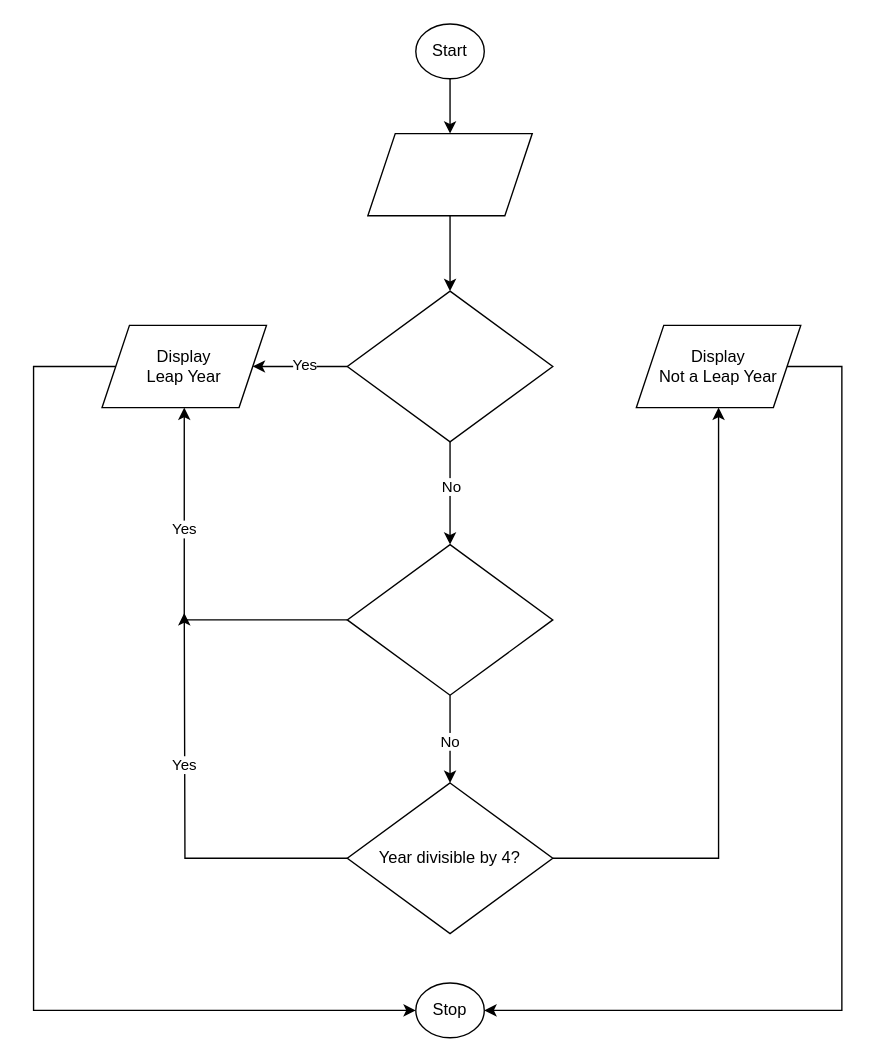
Image size: 877x1062. Some labels were removed from this diagram. The centre of each missing label's shape, as x and y in pixels:
"Enter a year" goes at (x=449, y=174).
"Year divisible by 100?" goes at (x=449, y=619).
"Year divisible by 400?" goes at (x=449, y=366).
